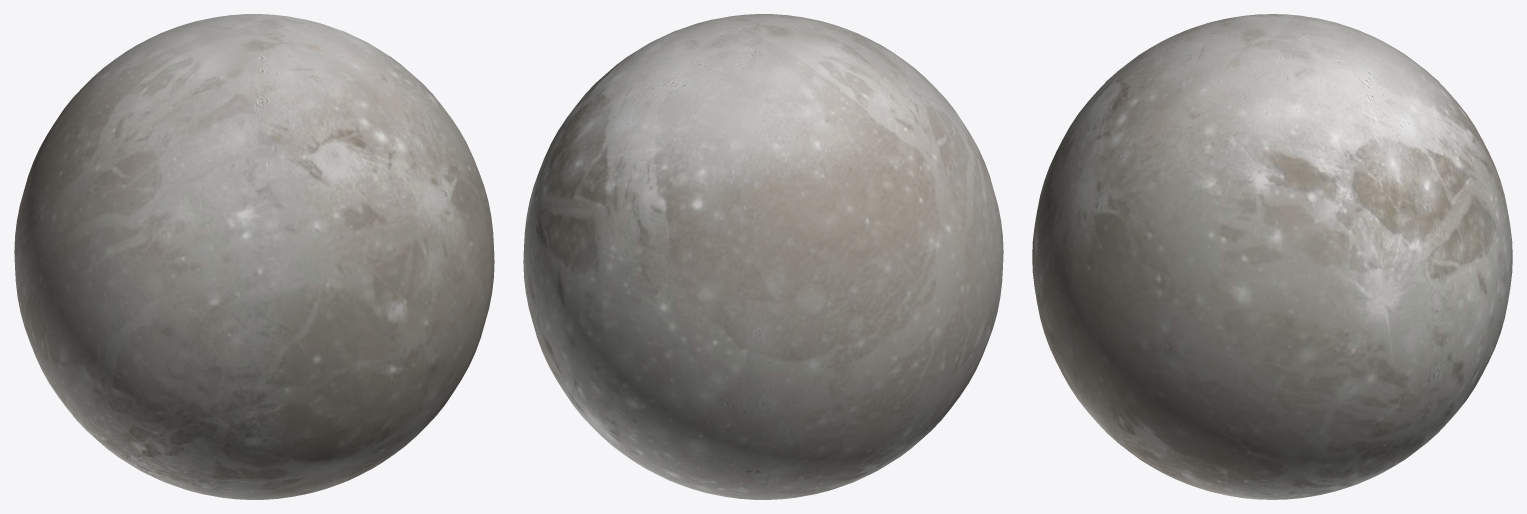
The model's file is ganymede.obj.
The picture shows the model from 3 angles, left to right: view 1: azimuth 30°, elevation 25°; view 2: azimuth 150°, elevation 25°; view 3: azimuth 270°, elevation 25°; orthographic projection.
Visible parts, largest first — view 1: ganymede; view 2: ganymede; view 3: ganymede.
Part boxes in pixels (box(x1,y1,x2,y2)): ganymede: box(14, 14, 494, 499); ganymede: box(523, 14, 1003, 499); ganymede: box(1032, 14, 1512, 499).
Bounding box in the file's own units: 4.92 × 4.97 × 4.92.
Materials: 1 (1 with a texture image).
